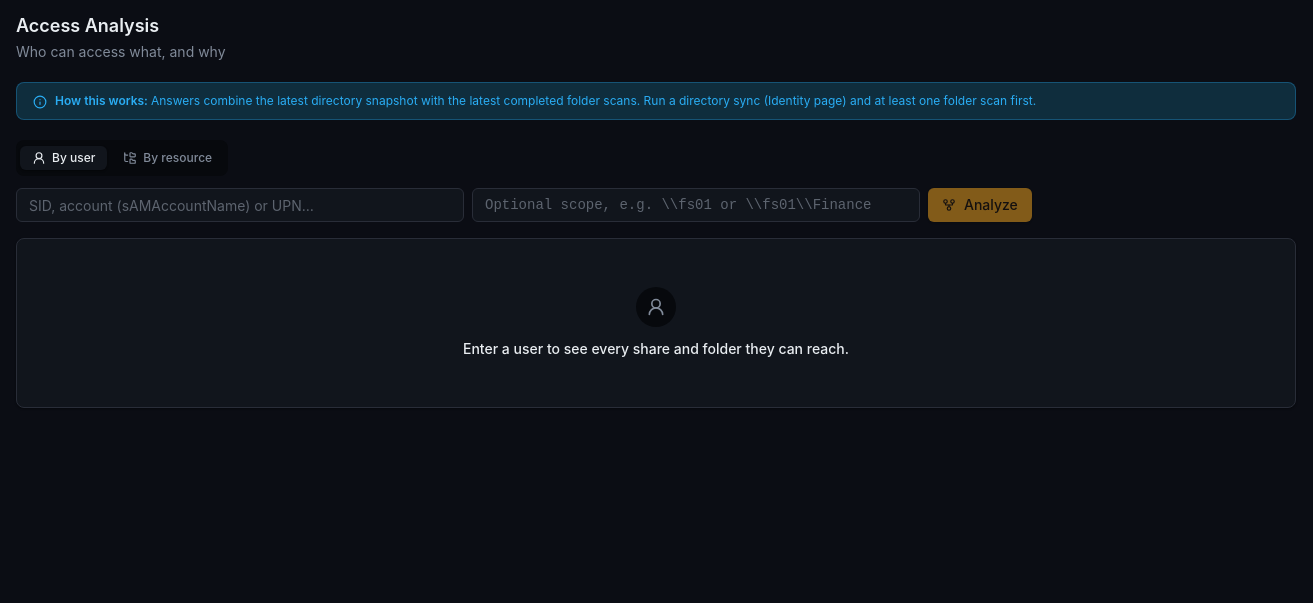
Test: AccessAnalysisPage by-user server scope › sends an optional UNC server scope and displays it with the consulted share snapshots
Type "alice" into the field labelled "SID, account (sAMAccountName) or UPN…" at (240, 205), box left=16, top=188, right=464, bottom=222
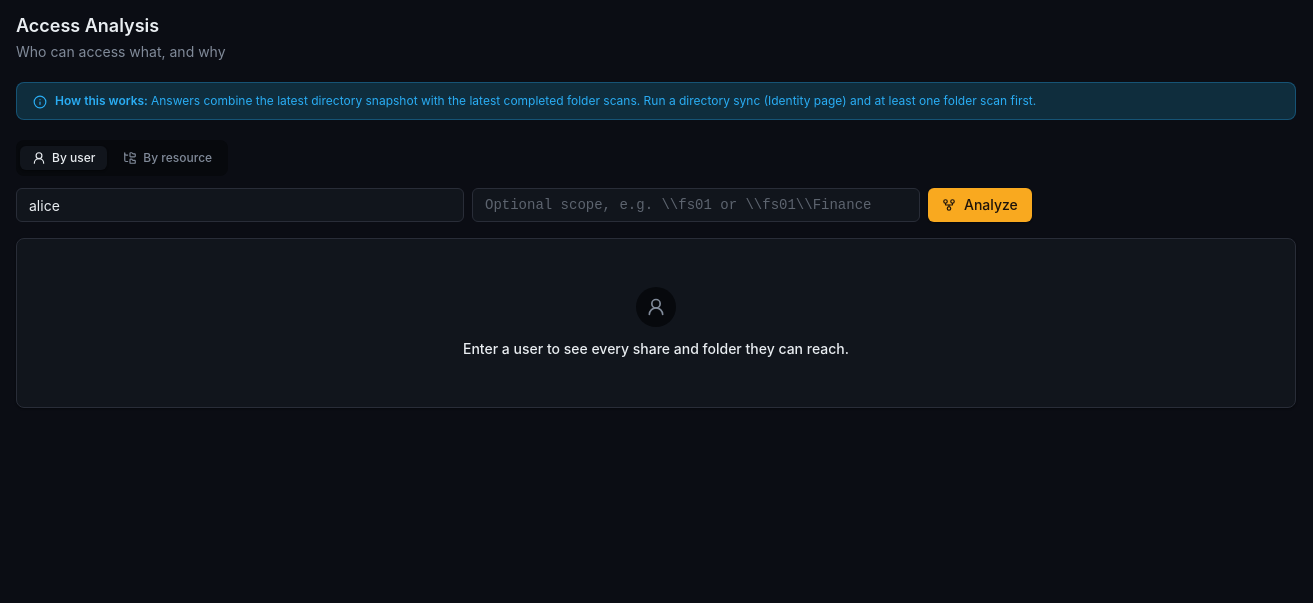
Type "\\\\filesrv" into the field named "Analysis scope" at (696, 205), box left=472, top=188, right=920, bottom=222
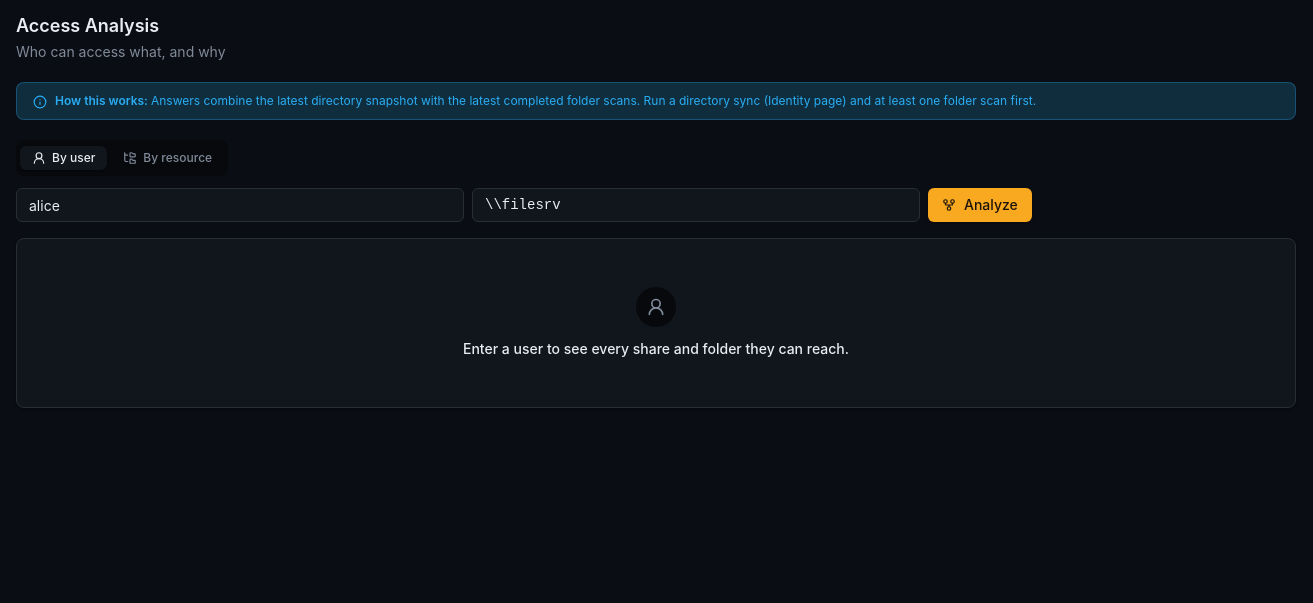
Click the button "Analyze" at (980, 205), box left=928, top=188, right=1032, bottom=222
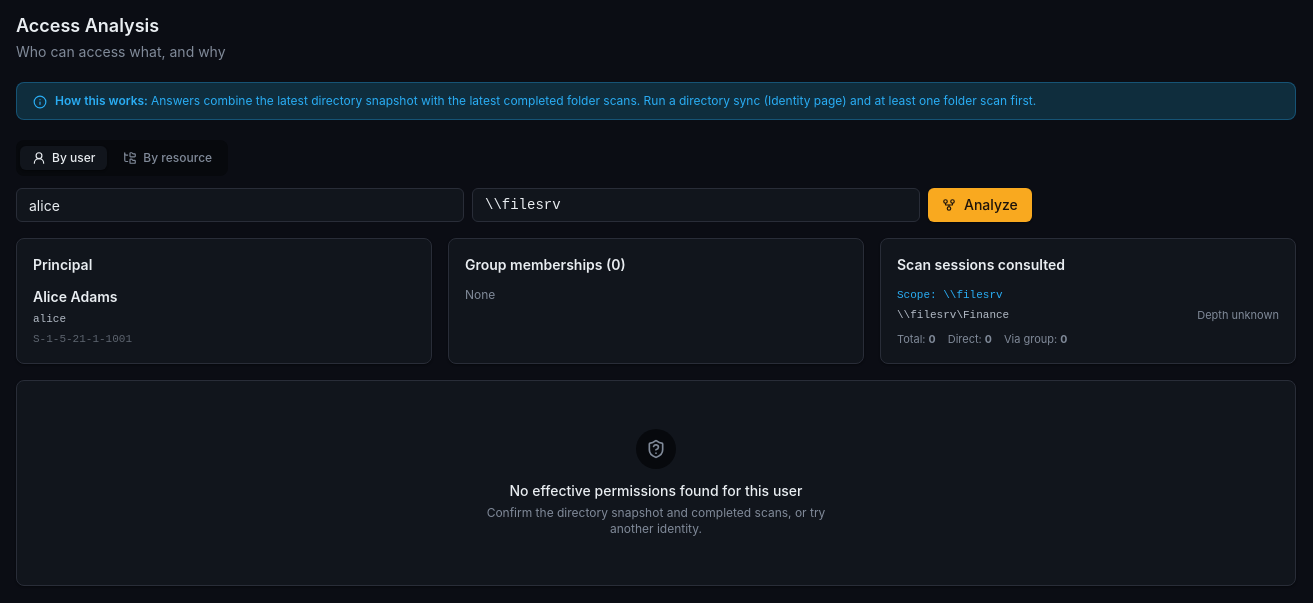
expect the text "Scope: \\\\filesrv" is shown: met, box left=897, top=289, right=1003, bottom=301
expect the text "\\\\filesrv\\Finance" is shown: met, box left=897, top=309, right=1009, bottom=321
